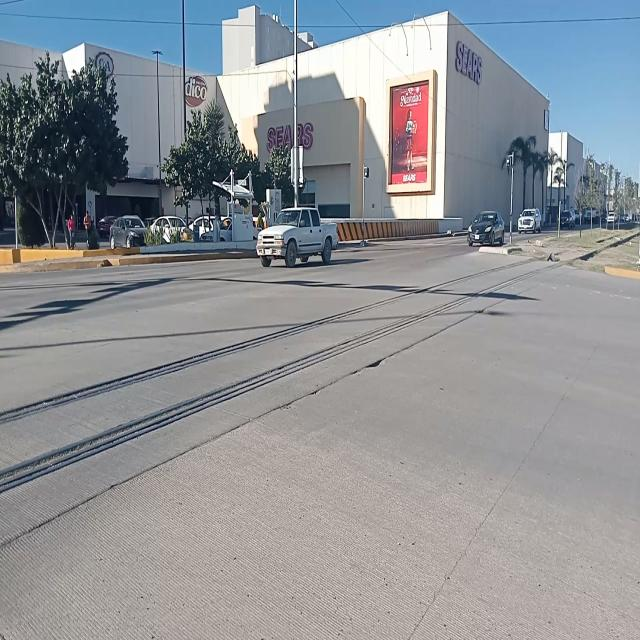Auto: (256, 200, 342, 274), (469, 209, 505, 251)
